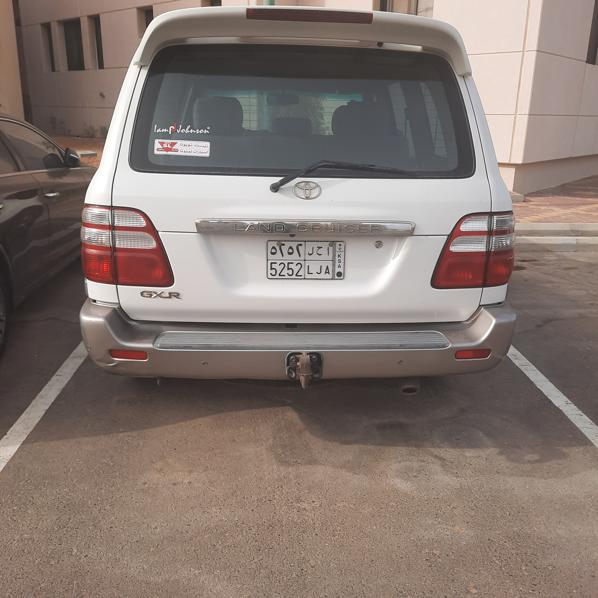numberplate: (266, 239, 347, 281)
